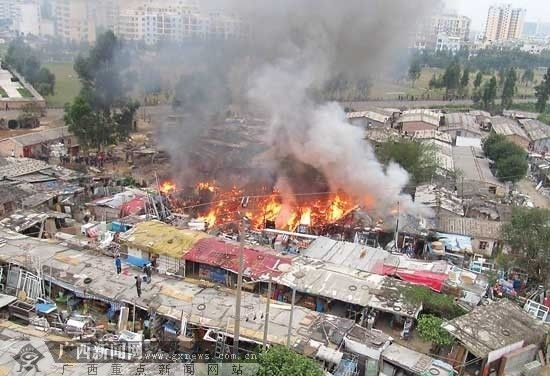fire: (177, 177, 360, 228)
